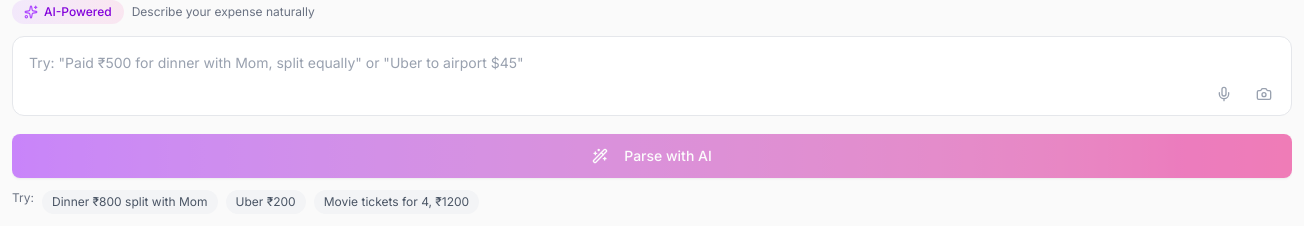
Scenario: AIExpenseInput › shows error toast when AI request fails
The image size is (1304, 226).
Type "Dinner 500" into the text box with placeholder "Try: \"Paid" at (652, 76), box left=12, top=36, right=1292, bottom=116
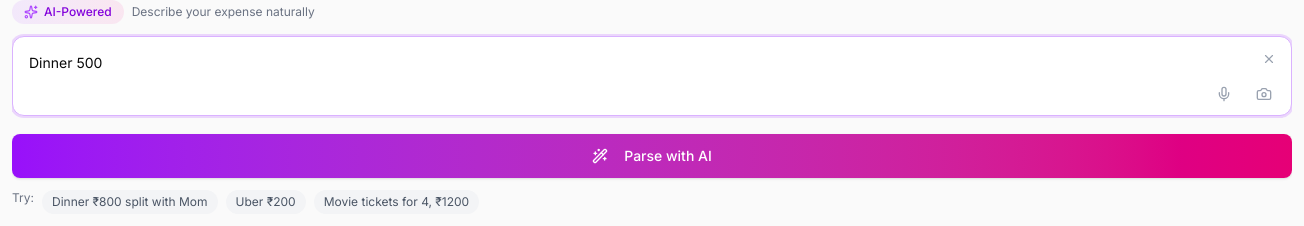
Click the button "Parse with AI" at (652, 156), box left=12, top=134, right=1292, bottom=178
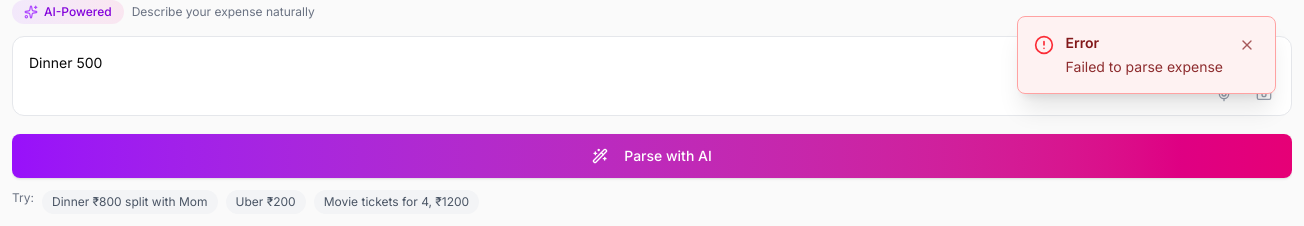
Expected: the text "Failed to parse expense" is shown, left=1066, top=57, right=1223, bottom=77
